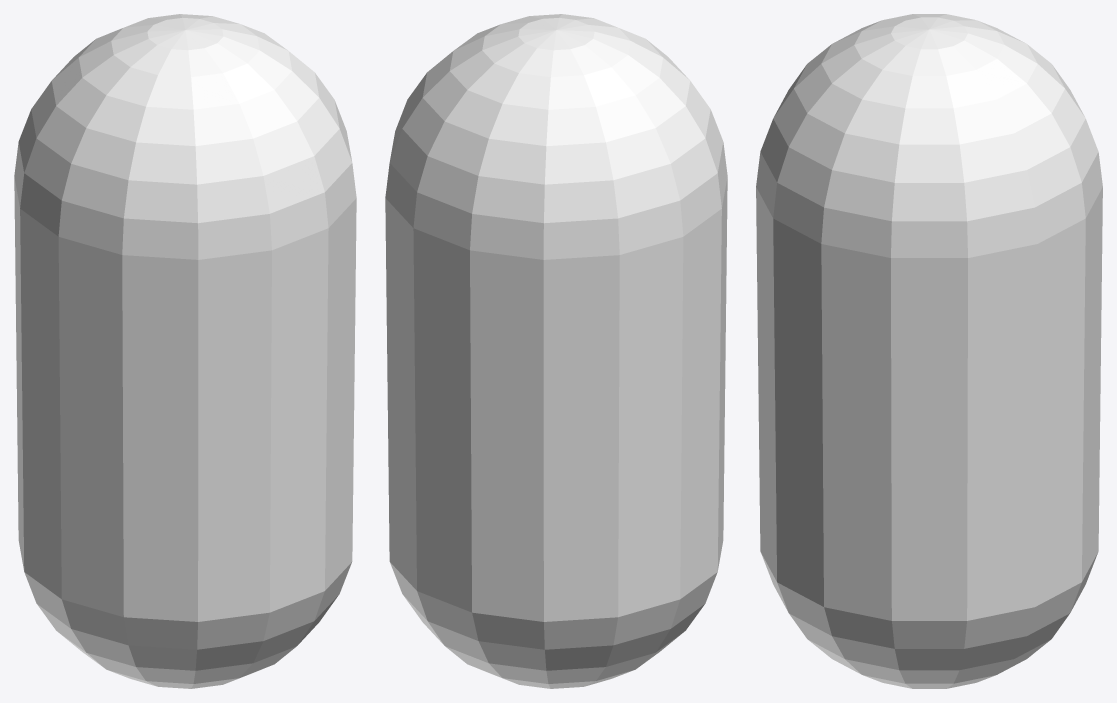
File: healing_chamber_item.obj
3 views of the same model, side by side, from view 1: azimuth 30°, elevation 25°; view 2: azimuth 150°, elevation 25°; view 3: azimuth 270°, elevation 25° (orthographic).
Visible parts, largest first — view 1: Sphere_Sphere.003; view 2: Sphere_Sphere.003; view 3: Sphere_Sphere.003.
Boxes of the visible parts, x1,y1,x2,y2 form: Sphere_Sphere.003: [14, 14, 356, 688]; Sphere_Sphere.003: [385, 14, 727, 688]; Sphere_Sphere.003: [756, 14, 1102, 688].
Bounding box in the file's own units: 1.6 × 3.36 × 1.64.
